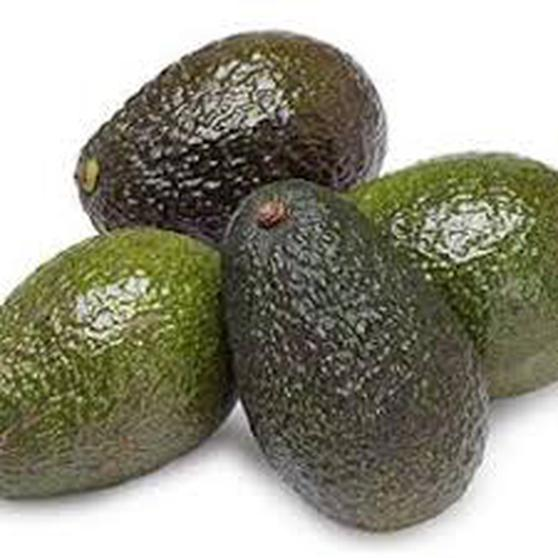avocado: (167, 169, 510, 535)
